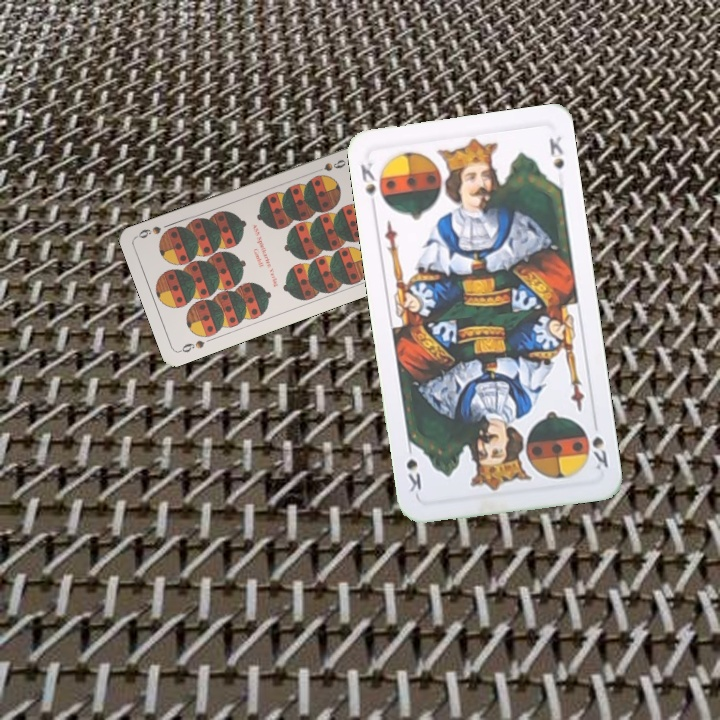S9: (310, 155, 349, 176), (175, 336, 207, 355)
SK: (356, 158, 379, 213), (588, 432, 611, 473)
